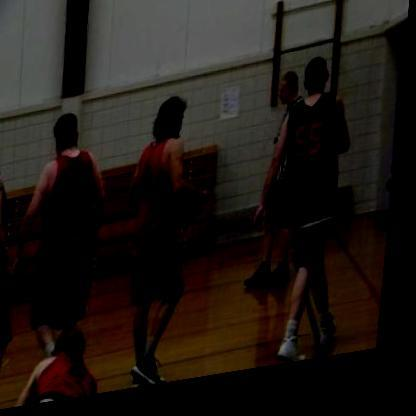basketball: (174, 193, 210, 238)
